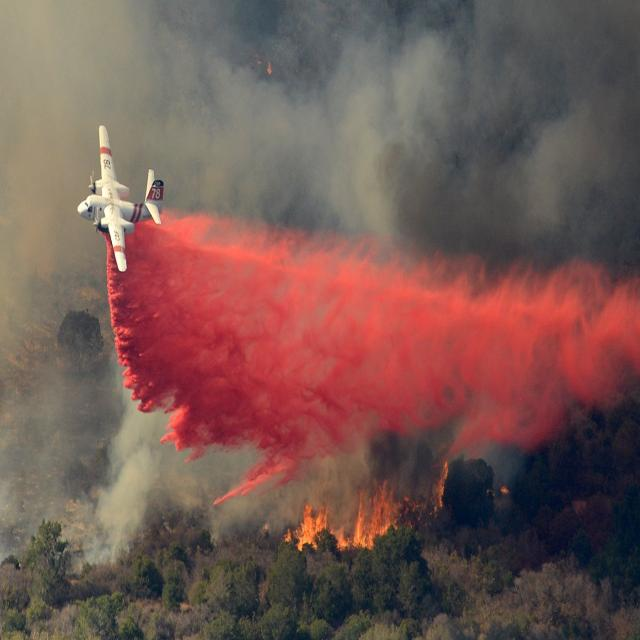Fire: (285, 460, 518, 560)
Smoke: (20, 15, 632, 560)
